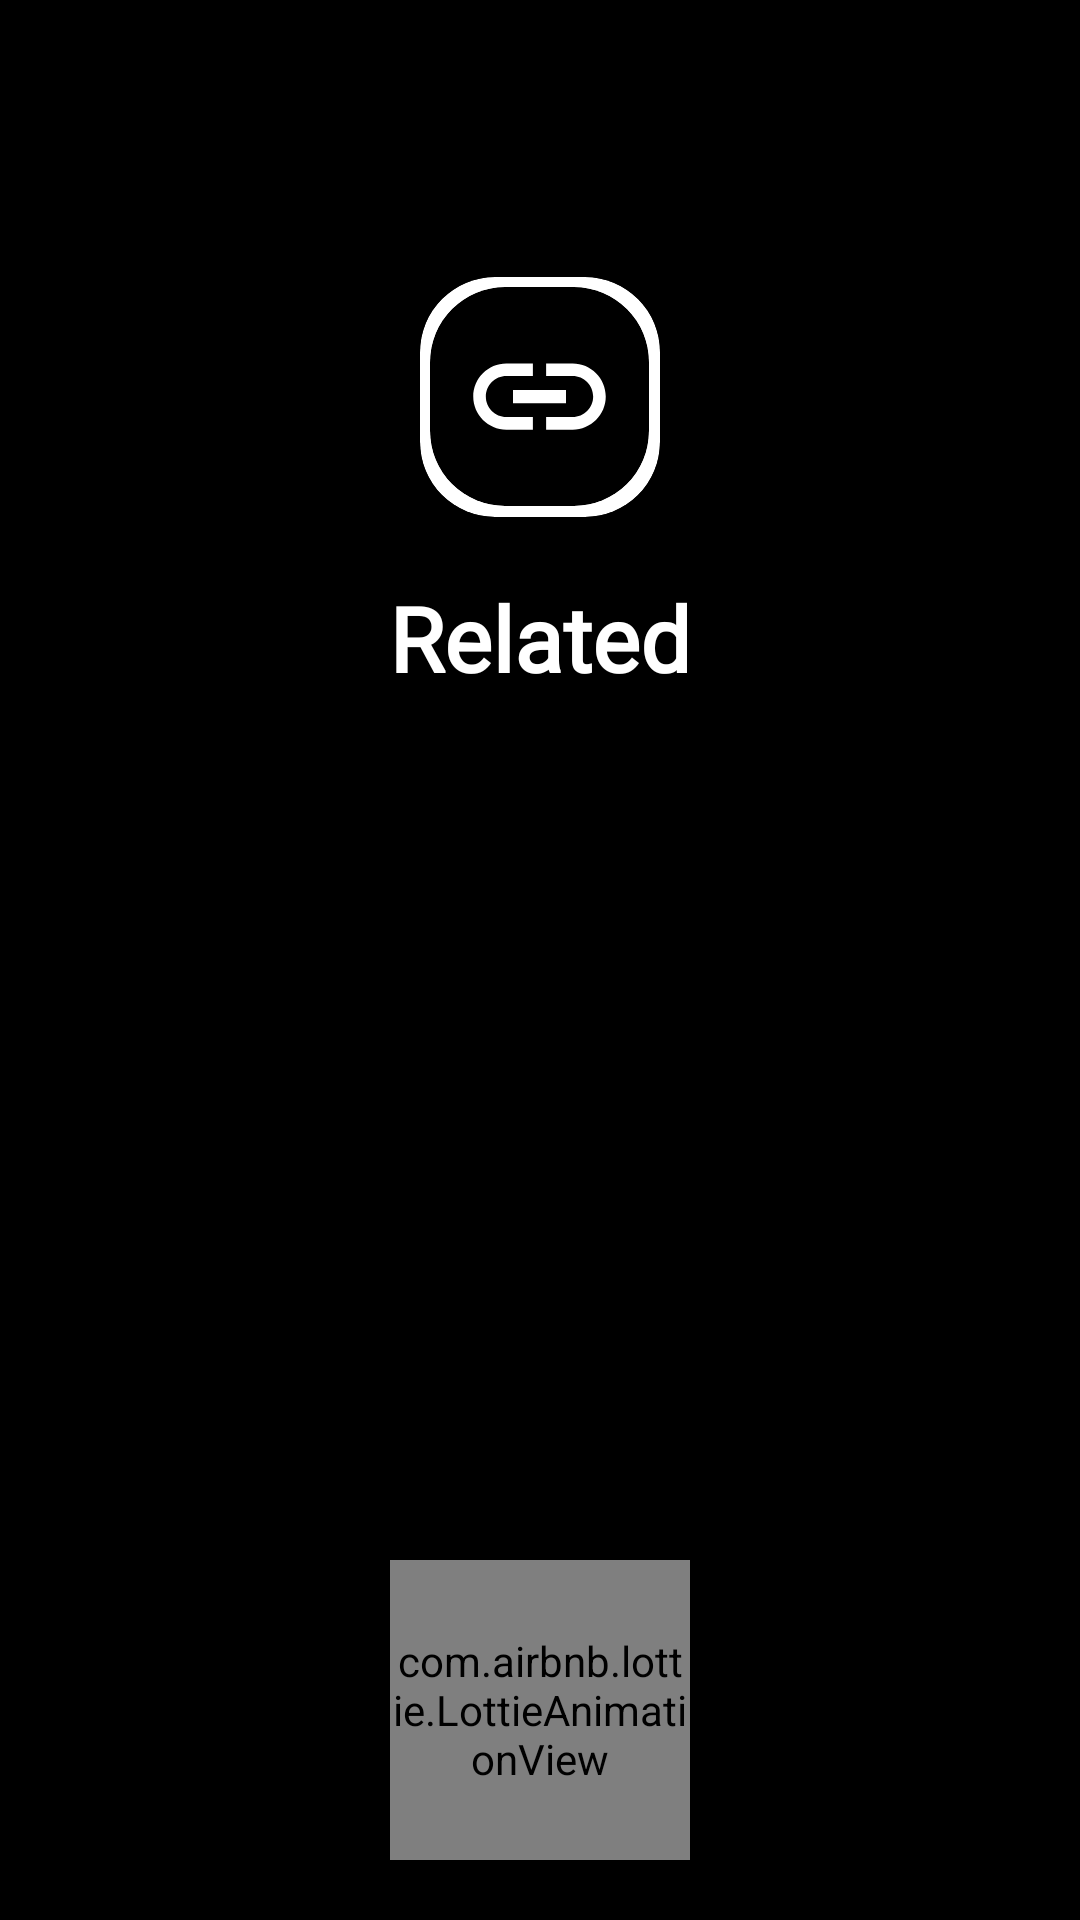

Screen size 1080x1920. Icon name, then its center in pixels as (x,y):
link: (539,396)
